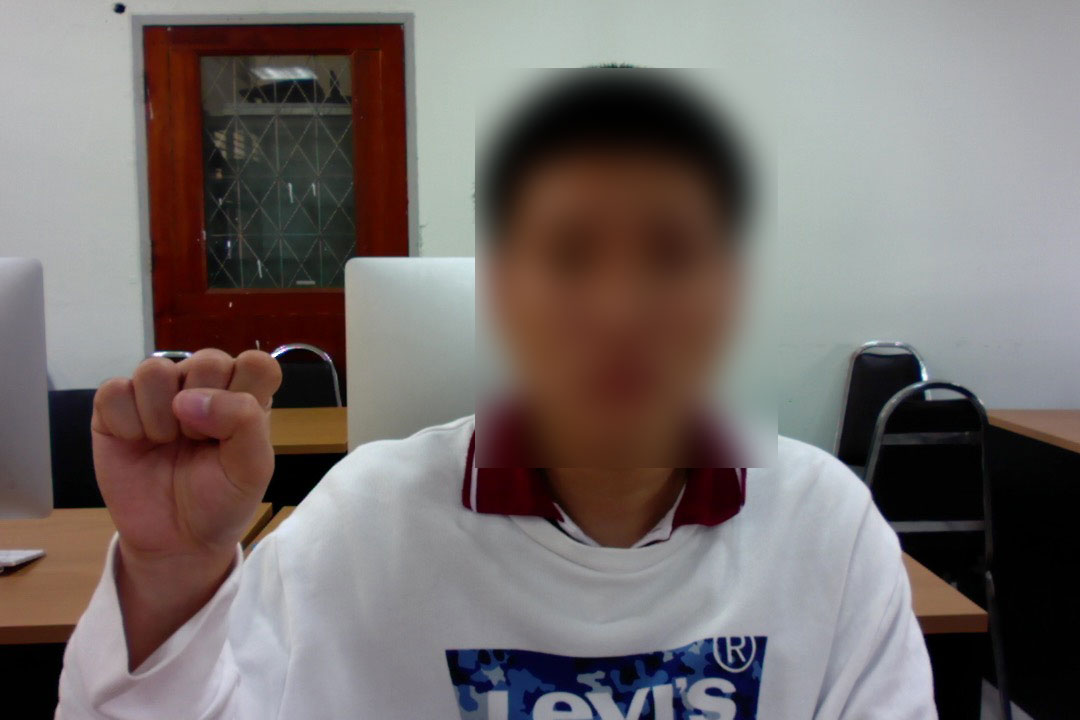sor: (81, 345, 299, 567)
